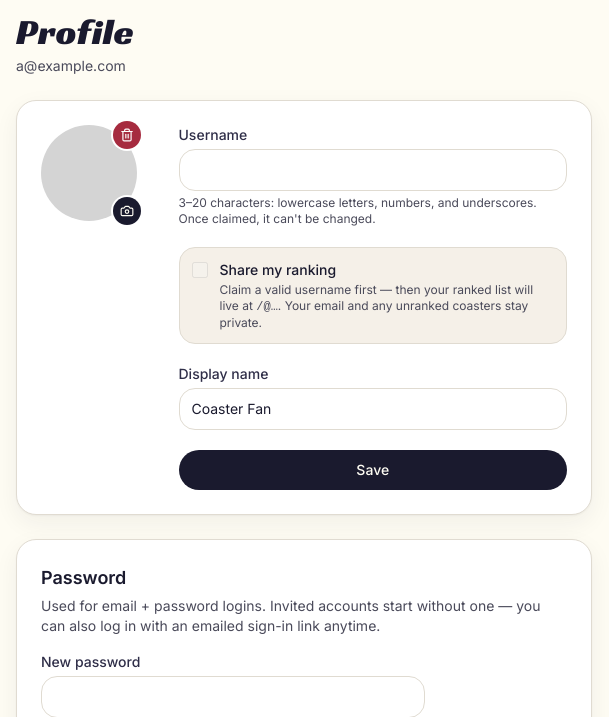
Scenario: ProfilePage › maps a reserved-list CHECK hit (deploy skew / API caller) to a friendly error
Type "admin" into the field labelled "Username".
click(373, 170); type("admin")  # box 178,149 -> 567,191
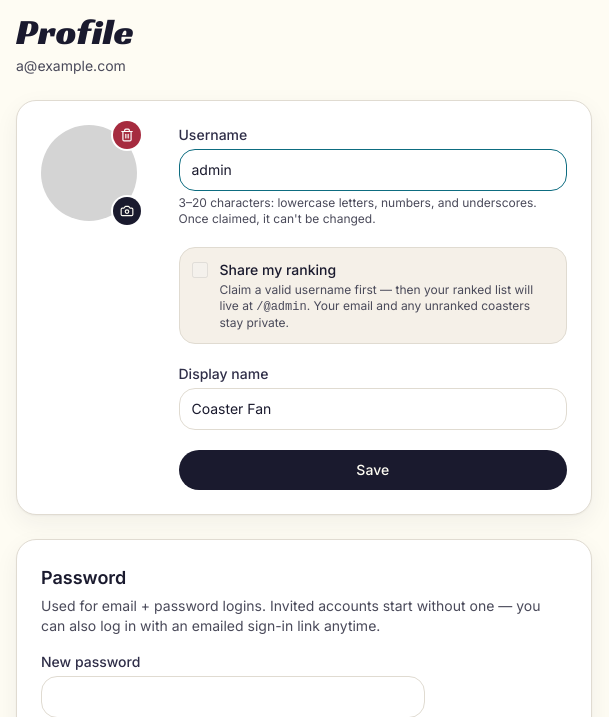
Click the button "Save".
click(373, 470)  # box 178,450 -> 567,490
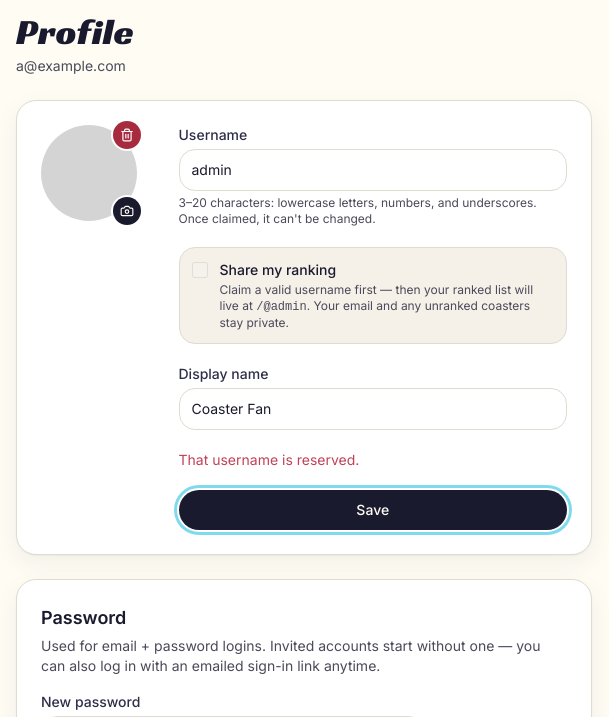
Check: the text "That username is reserved." is shown, box 178,451 -> 359,468
